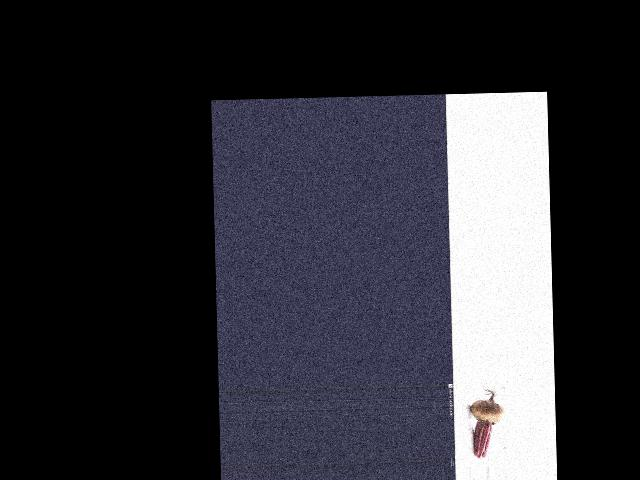beet: (469, 384, 504, 458)
